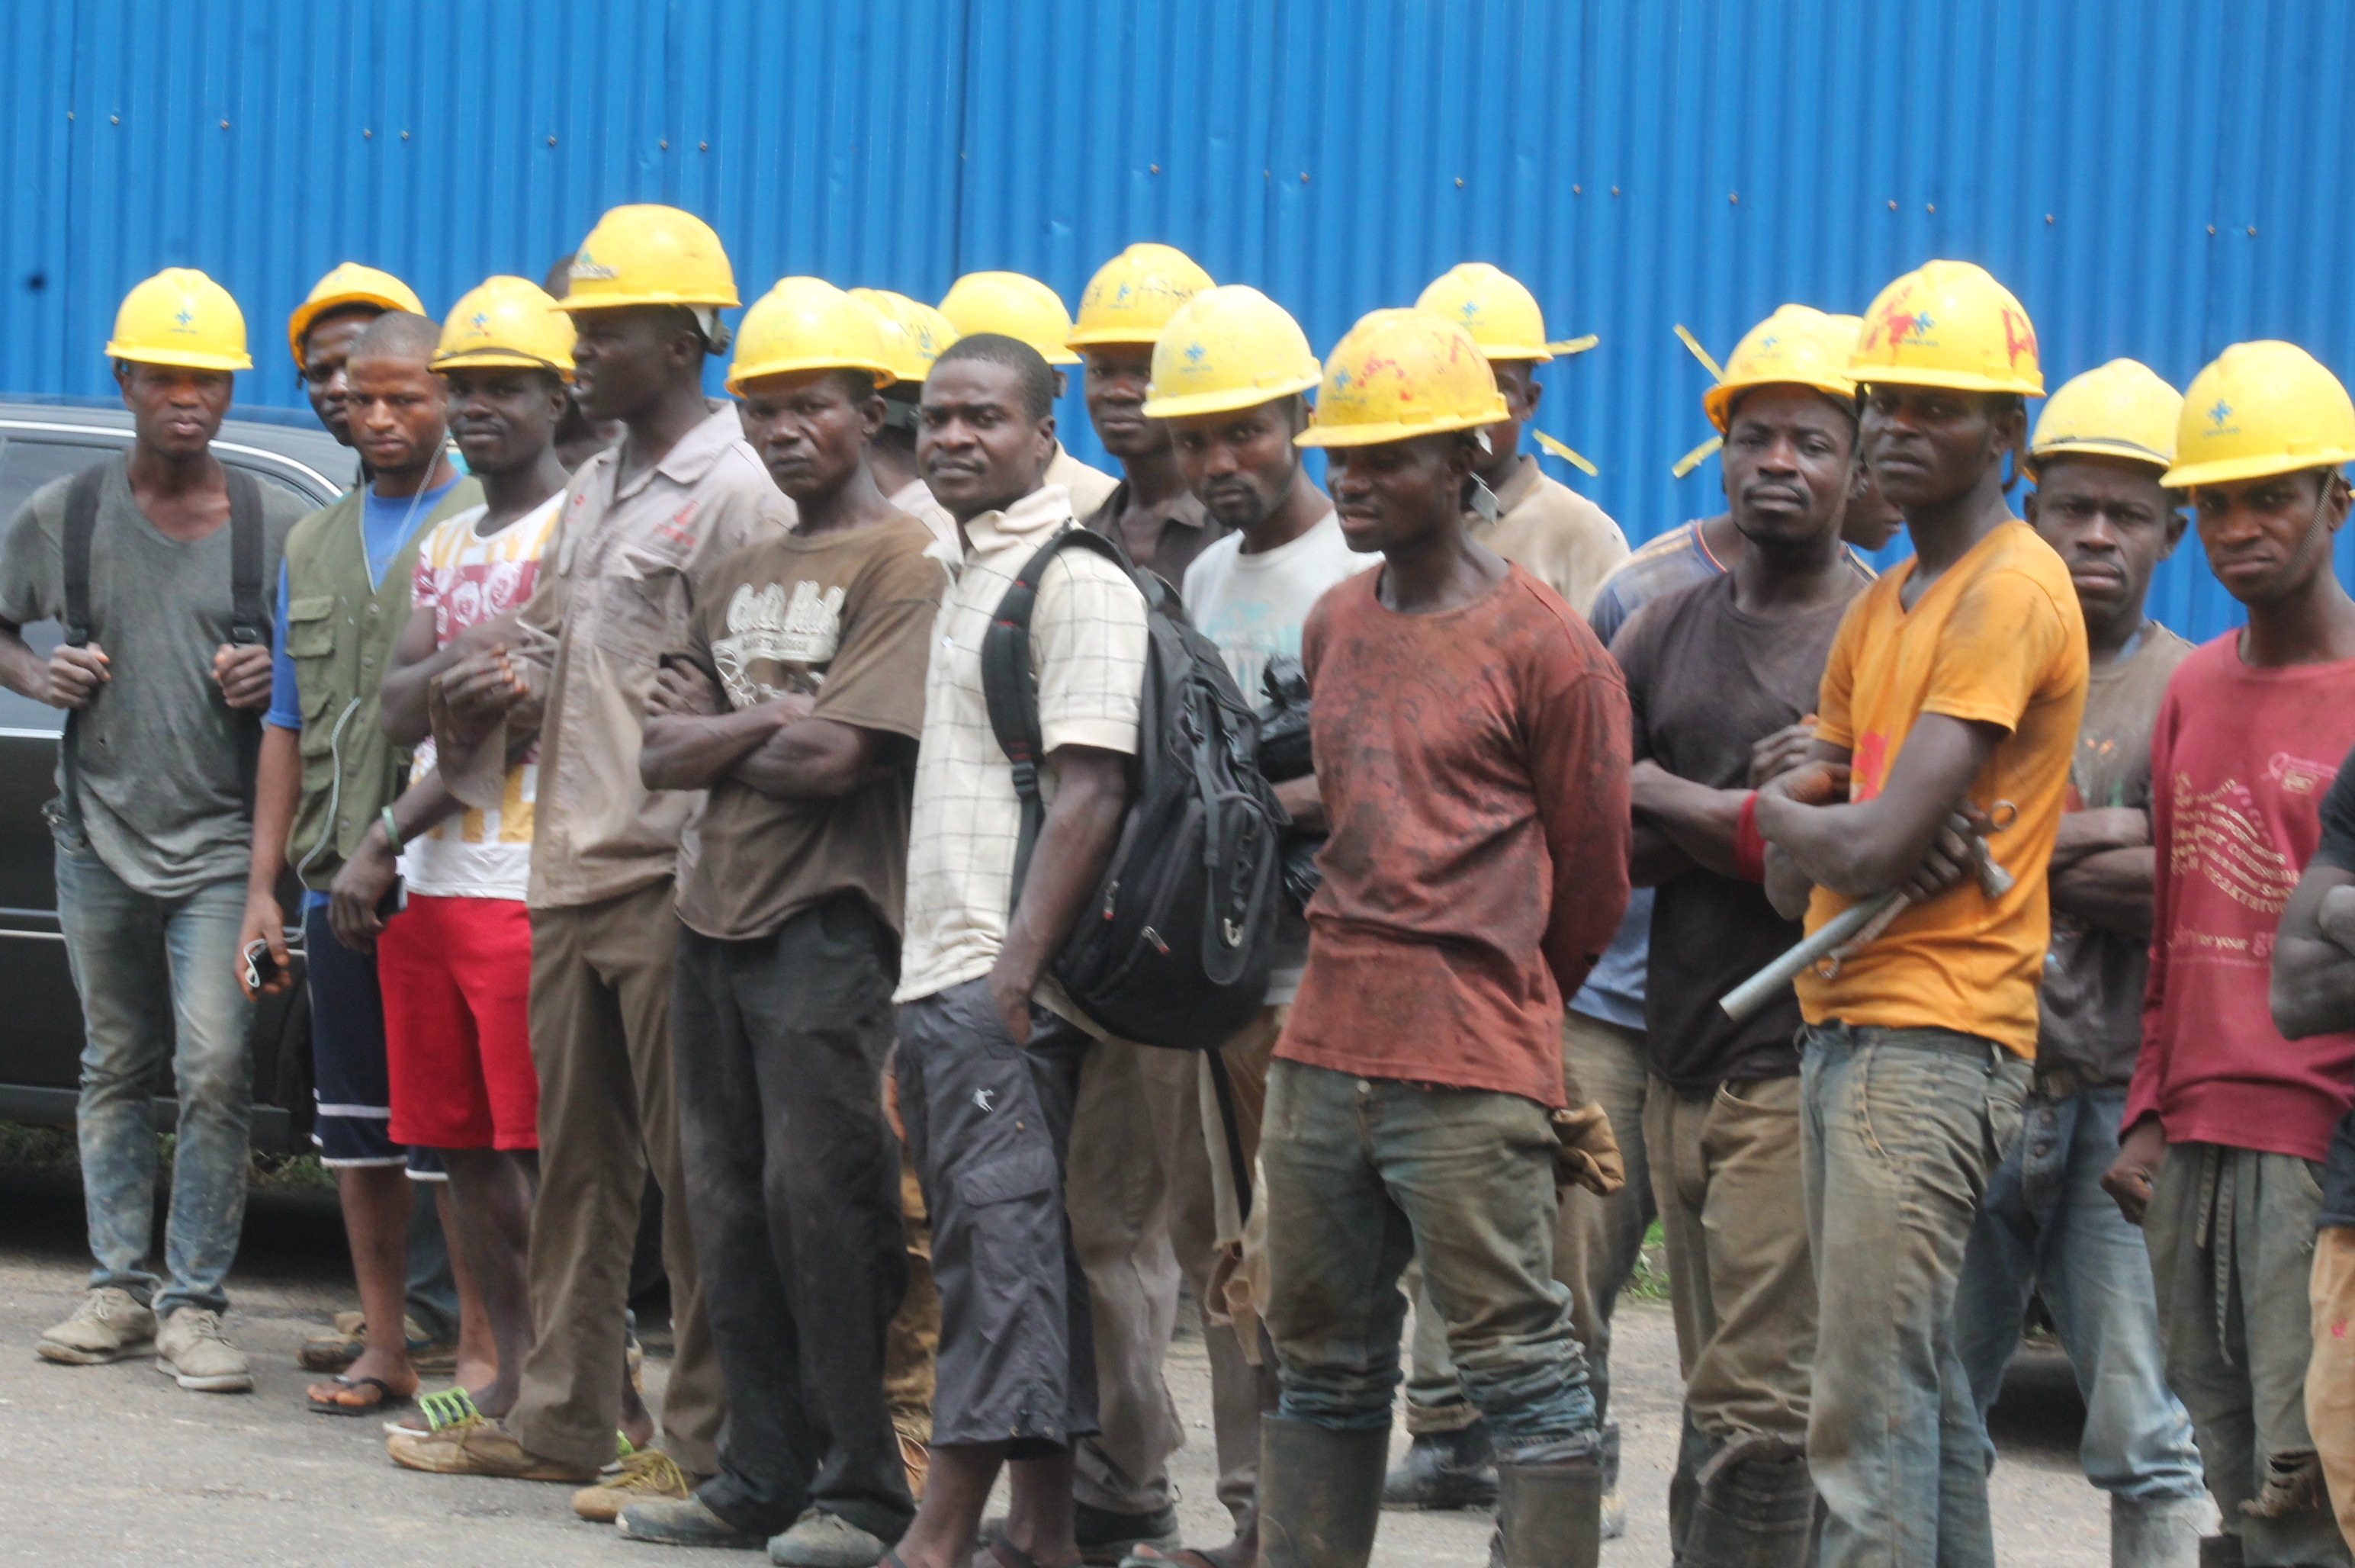none: (920, 336, 1059, 511), (348, 315, 441, 472)
yellow: (2166, 334, 2345, 614), (1307, 308, 1501, 546), (2023, 350, 2184, 633), (1860, 252, 2035, 507), (556, 199, 738, 430), (1144, 280, 1309, 532), (1716, 304, 1862, 542), (731, 271, 875, 497), (101, 261, 250, 457), (430, 276, 572, 479), (1074, 240, 1204, 460), (1412, 259, 1547, 450), (289, 259, 416, 427)
